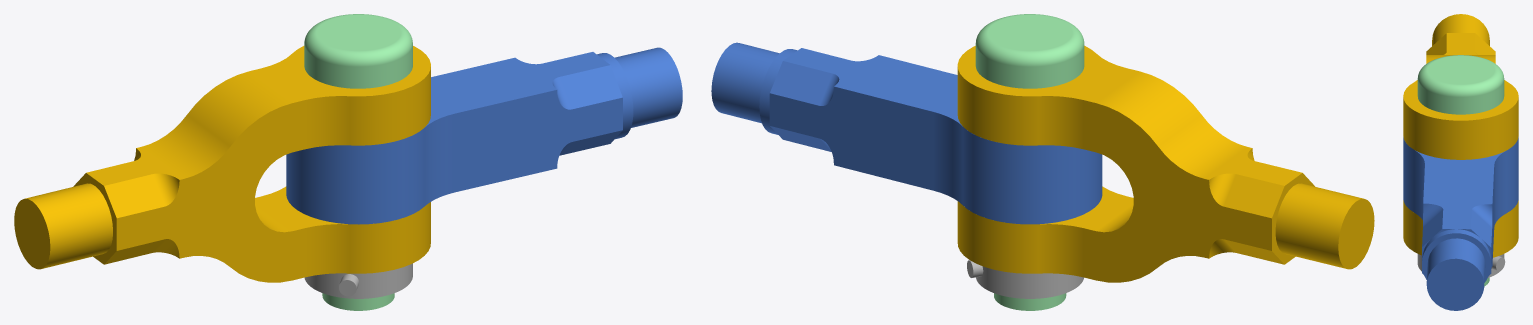
The model's file is knuckle_joint_assem.glb.
3 views of the same model, side by side, from view 1: azimuth 30°, elevation 25°; view 2: azimuth 150°, elevation 25°; view 3: azimuth 270°, elevation 25° (orthographic). The views are drawn at different scales.
Visible parts, largest first — view 1: Fork end-1, Eye-1, knuckle pin-1, collar-3; view 2: Fork end-1, Eye-1, knuckle pin-1, collar-3; view 3: Eye-1, Fork end-1, knuckle pin-1, taper pin-1, collar-3.
Boxes of the visible parts, x1=… form: Fork end-1: x1=14, y1=46, x2=430, y2=282; Eye-1: x1=286, y1=47, x2=682, y2=224; knuckle pin-1: x1=304, y1=14, x2=412, y2=310; collar-3: x1=304, y1=263, x2=412, y2=298; Fork end-1: x1=957, y1=45, x2=1374, y2=282; Eye-1: x1=711, y1=42, x2=1102, y2=224; knuckle pin-1: x1=975, y1=14, x2=1084, y2=310; collar-3: x1=976, y1=266, x2=1083, y2=298; Eye-1: x1=1403, y1=137, x2=1518, y2=310; Fork end-1: x1=1403, y1=14, x2=1518, y2=257; knuckle pin-1: x1=1417, y1=55, x2=1504, y2=286; taper pin-1: x1=1491, y1=256, x2=1505, y2=271; collar-3: x1=1417, y1=254, x2=1504, y2=277.
Bounding box in the file's own units: 0.3013 × 0.12 × 0.06.
